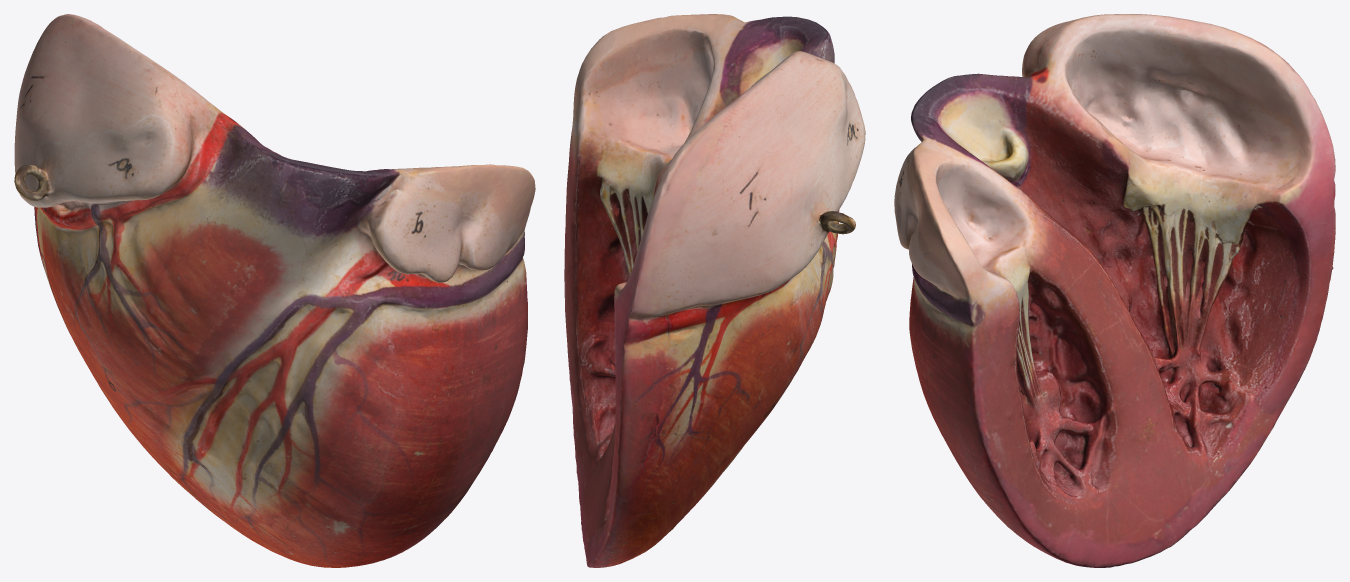
The model's file is heart.glb.
3 renders of one model, left to right at view 1: azimuth 30°, elevation 25°; view 2: azimuth 150°, elevation 25°; view 3: azimuth 270°, elevation 25°, orthographic. The views are drawn at different scales.
Parts seen in each view (by area): view 1: Object_2; view 2: Object_2; view 3: Object_2.
Boxes of the visible parts, x1,y1,x2,y2 form: Object_2: (14, 14, 535, 567); Object_2: (564, 14, 865, 567); Object_2: (894, 14, 1335, 567).
Size of the model in its own units: 0.0837 by 0.1086 by 0.0926.
Materials: 1 (1 with a texture image).
